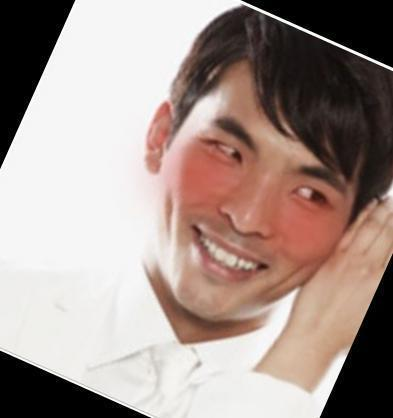Drunk: (173, 71, 340, 309)
